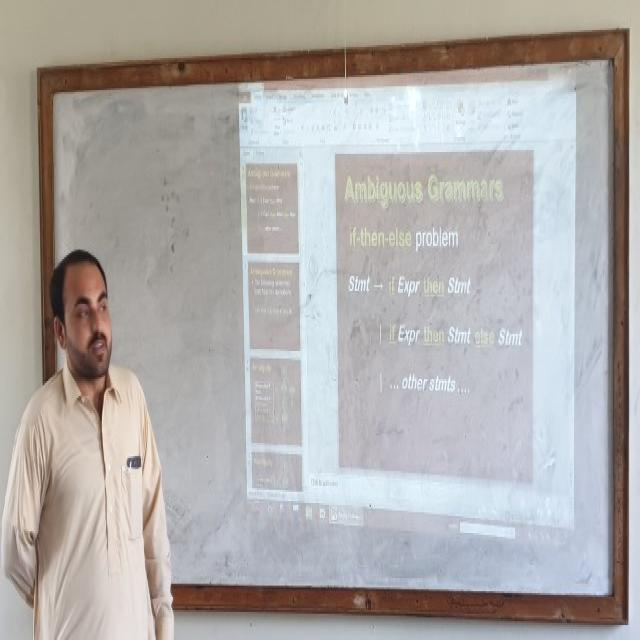Instructor: (34, 246, 144, 627)
Slide: (237, 58, 577, 553)
White-board: (43, 45, 620, 618)
